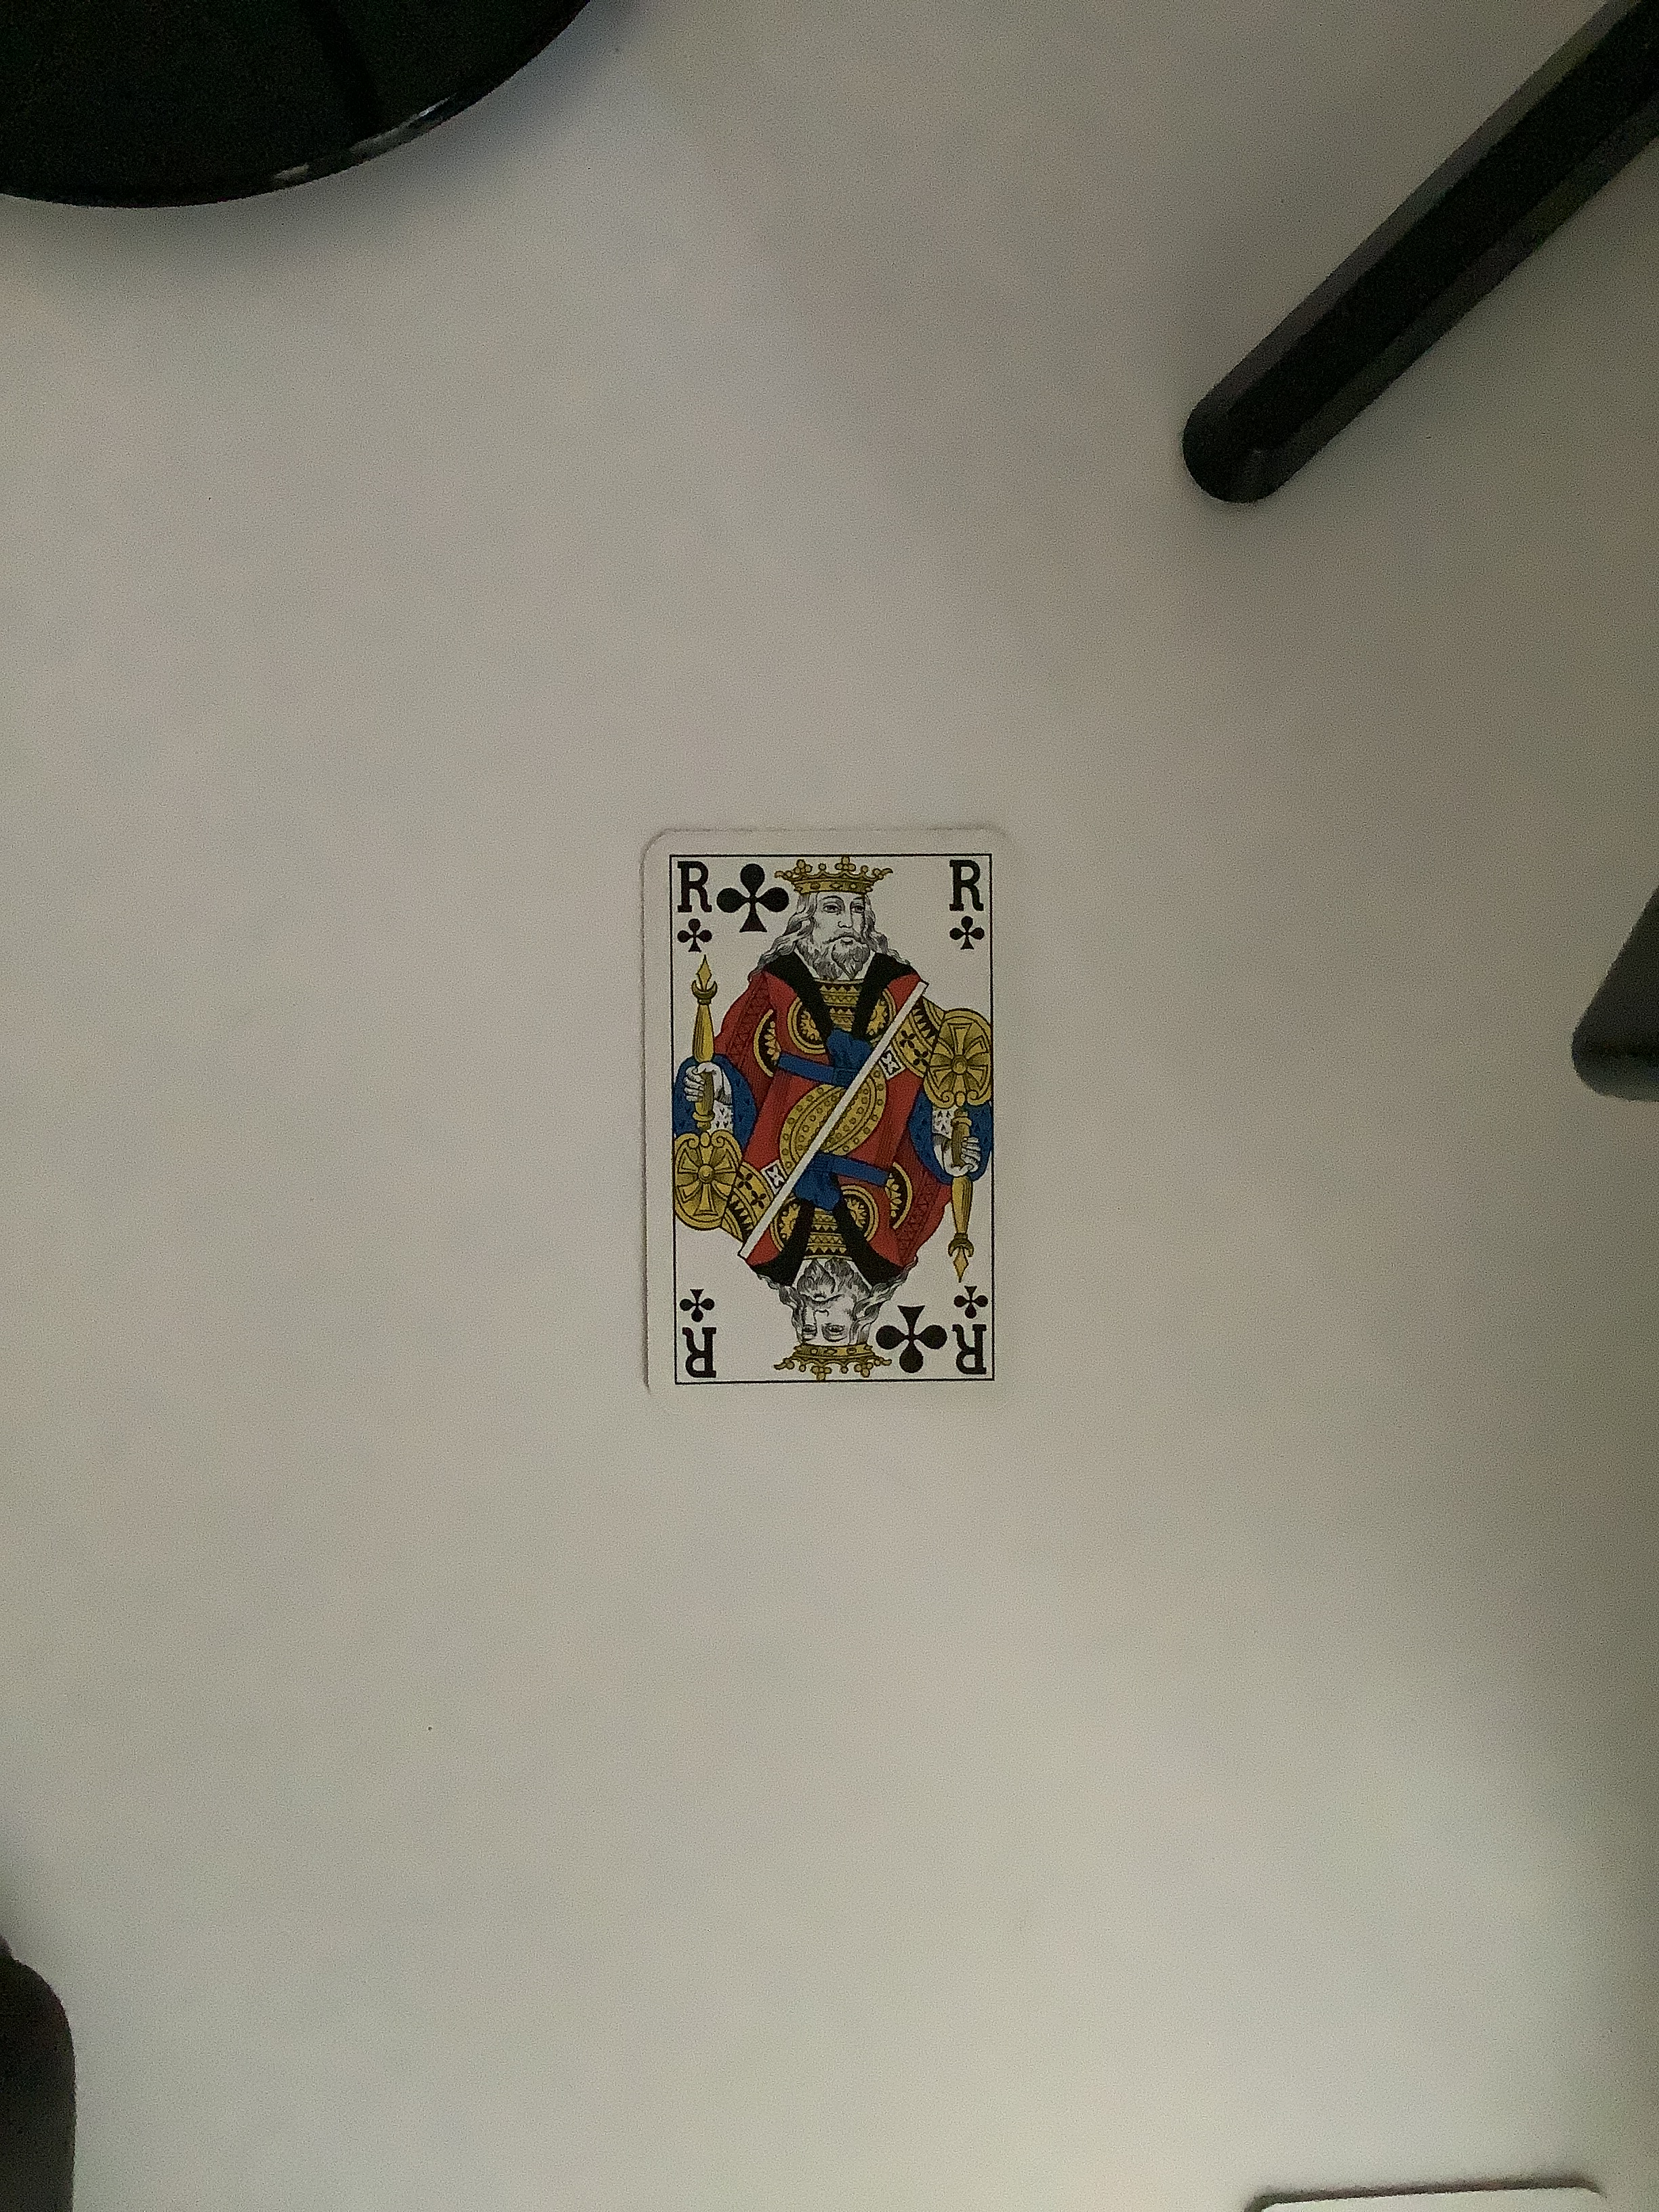♣ K: (617, 806, 1042, 1423)
